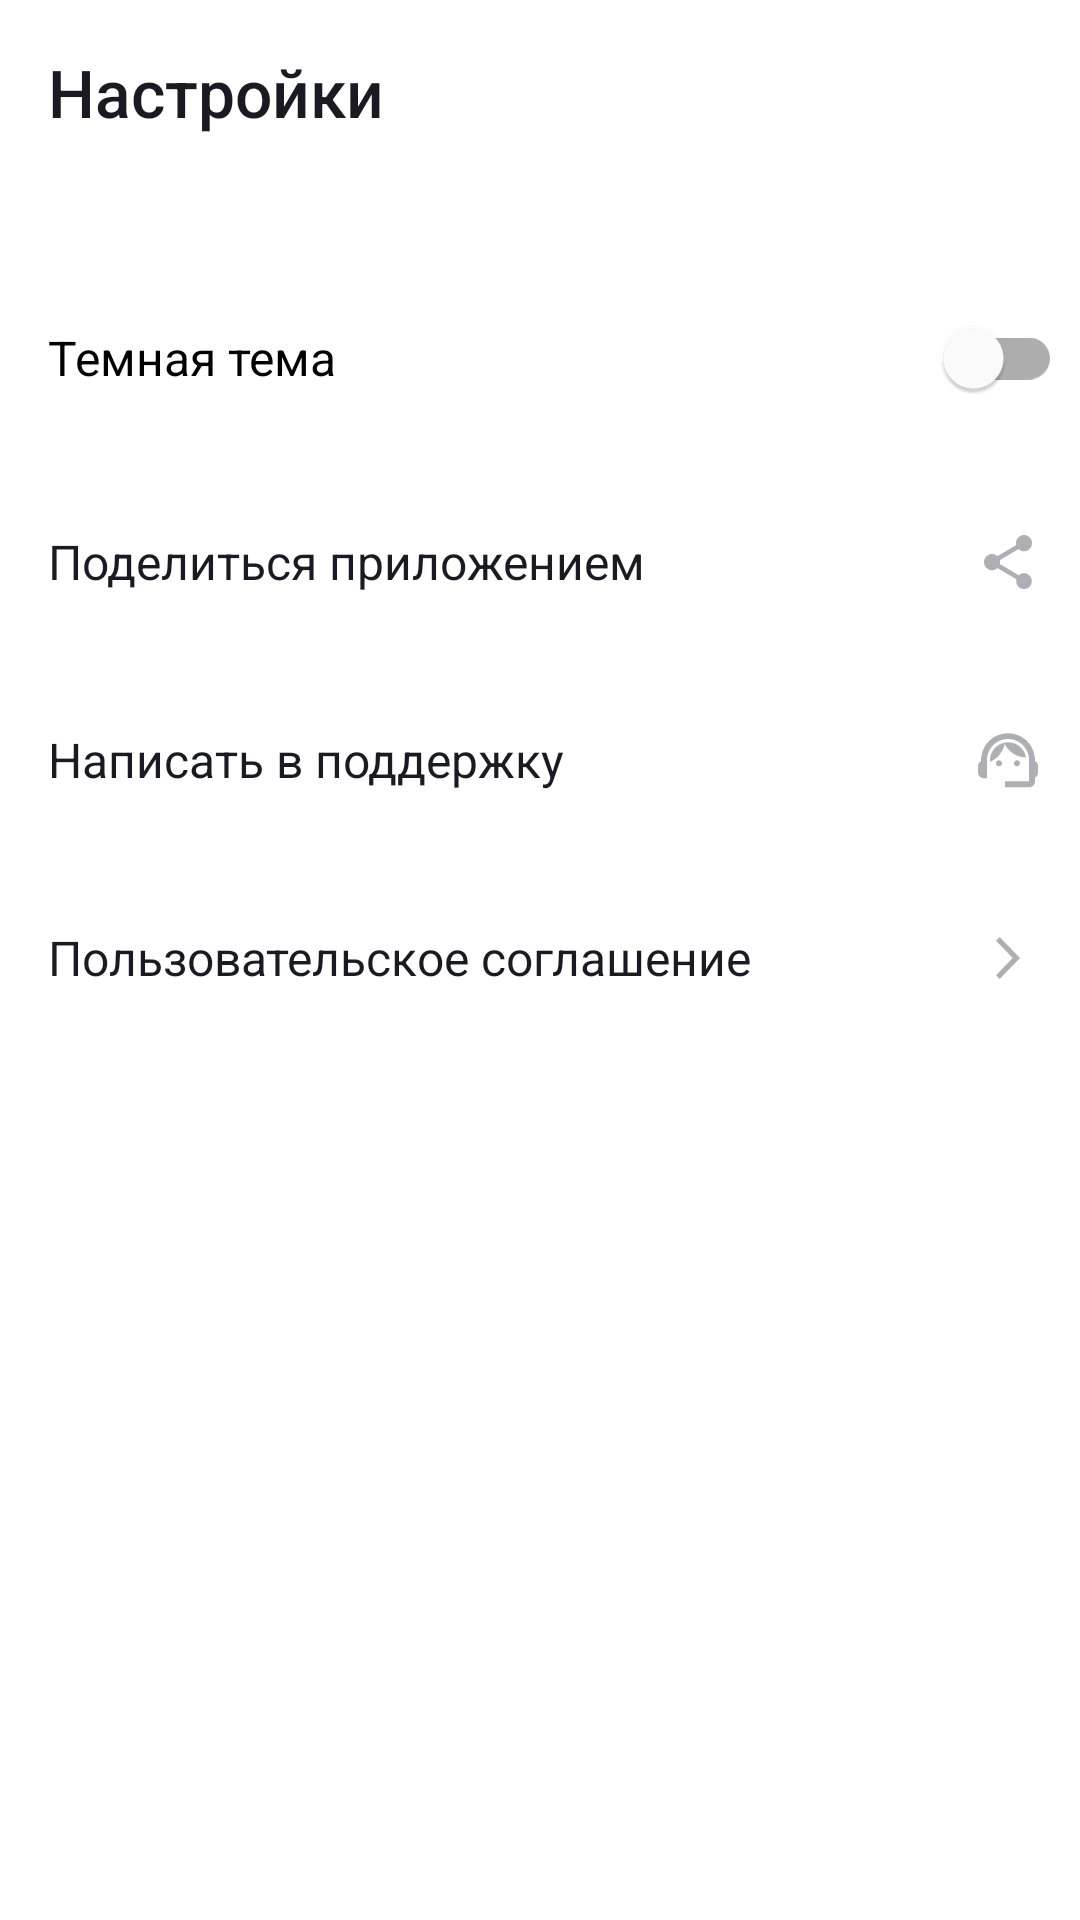

Icons on this 1080*1920 Android screen, each with the point to tap as (x,y):
Иконка Поддержка: (1008,760)
Иконка поделиться: (1008,562)
Стрелка вперед: (1008,958)
